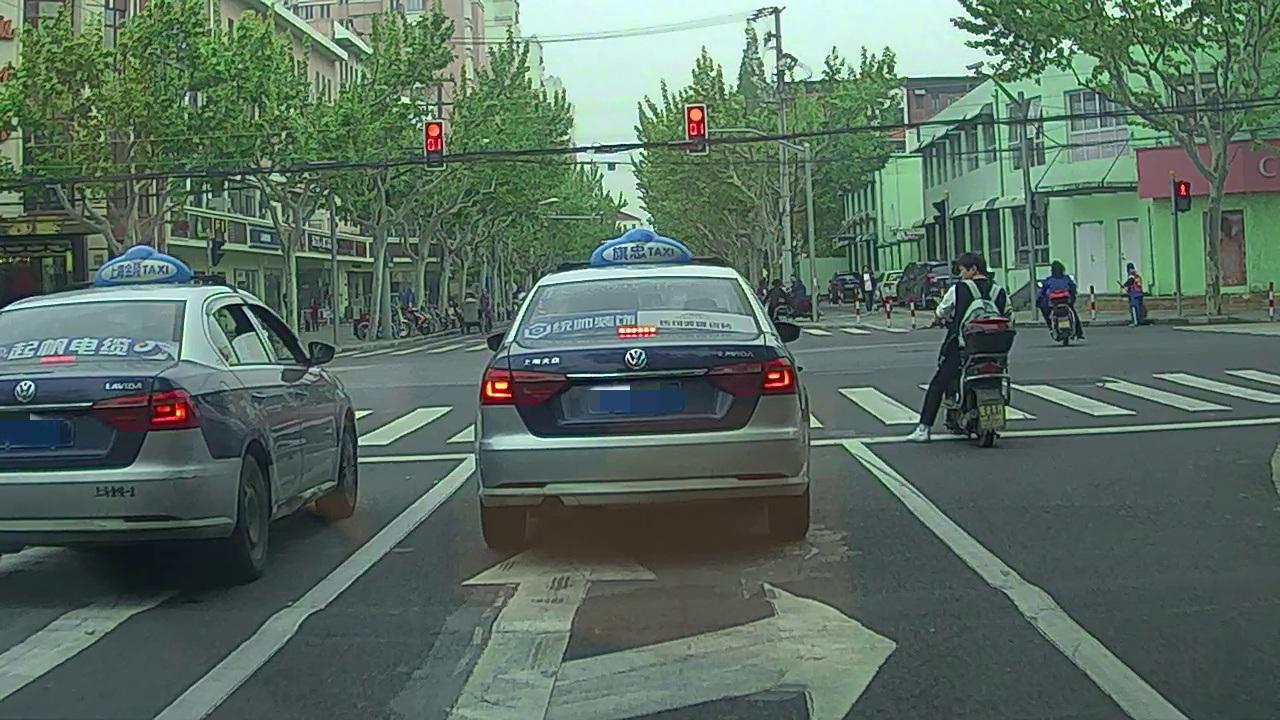traffic_light: (686, 106, 707, 152), (425, 121, 444, 170)
